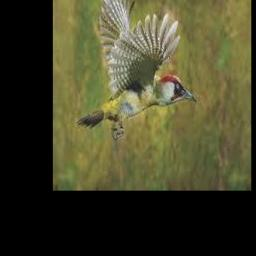Woodpecker: (75, 0, 197, 140)
